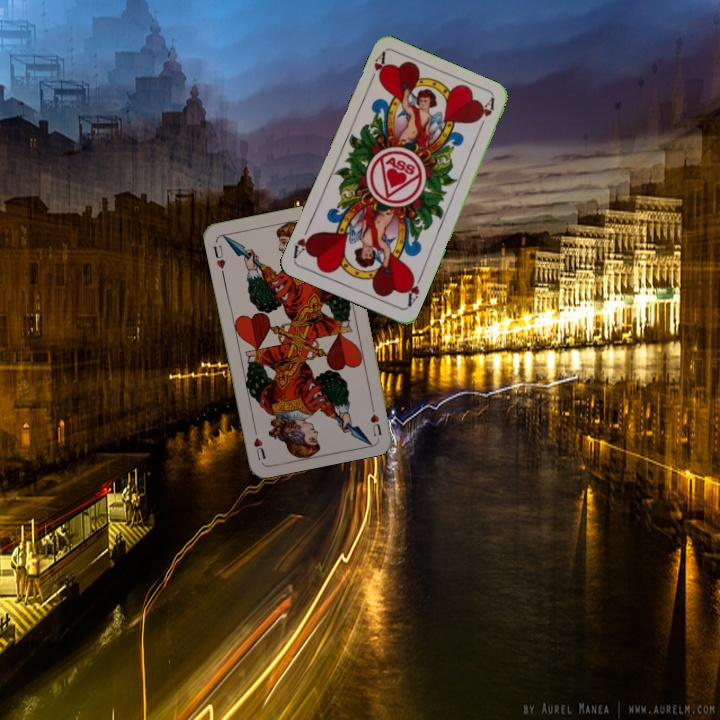HA: (364, 49, 389, 87), (402, 270, 425, 310)
HU: (366, 399, 384, 439), (209, 241, 228, 278)
